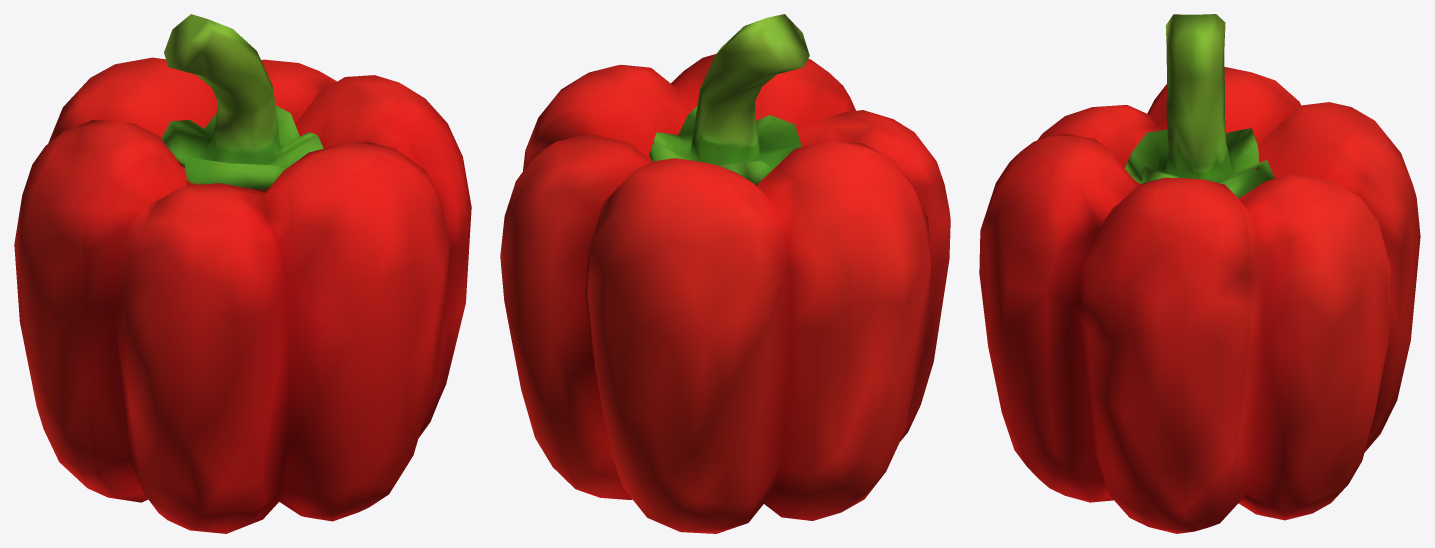
File: Red_Bell_Pepper.fbx
The picture shows the model from 3 angles, left to right: view 1: azimuth 30°, elevation 25°; view 2: azimuth 150°, elevation 25°; view 3: azimuth 270°, elevation 25°; orthographic projection. The views are drawn at different scales.
Visible parts, largest first — view 1: mesh_node; view 2: mesh_node; view 3: mesh_node.
Part boxes in pixels (x1=…): mesh_node: x1=14, y1=14, x2=471, y2=533; mesh_node: x1=500, y1=14, x2=950, y2=533; mesh_node: x1=979, y1=14, x2=1420, y2=533.
Bounding box in the file's own units: 17.89 × 20 × 17.73.
1 material, 1 textured.
